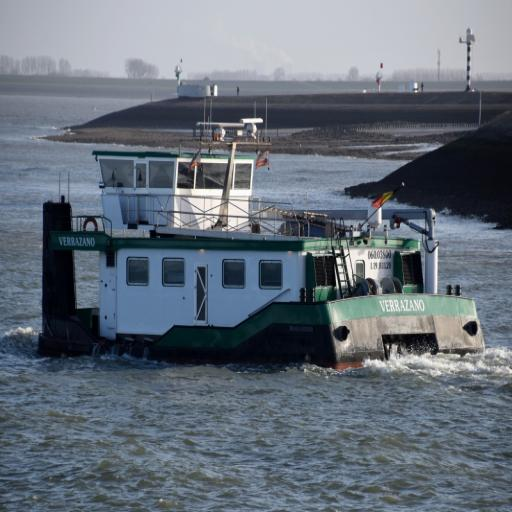tugboat: (36, 96, 490, 379)
